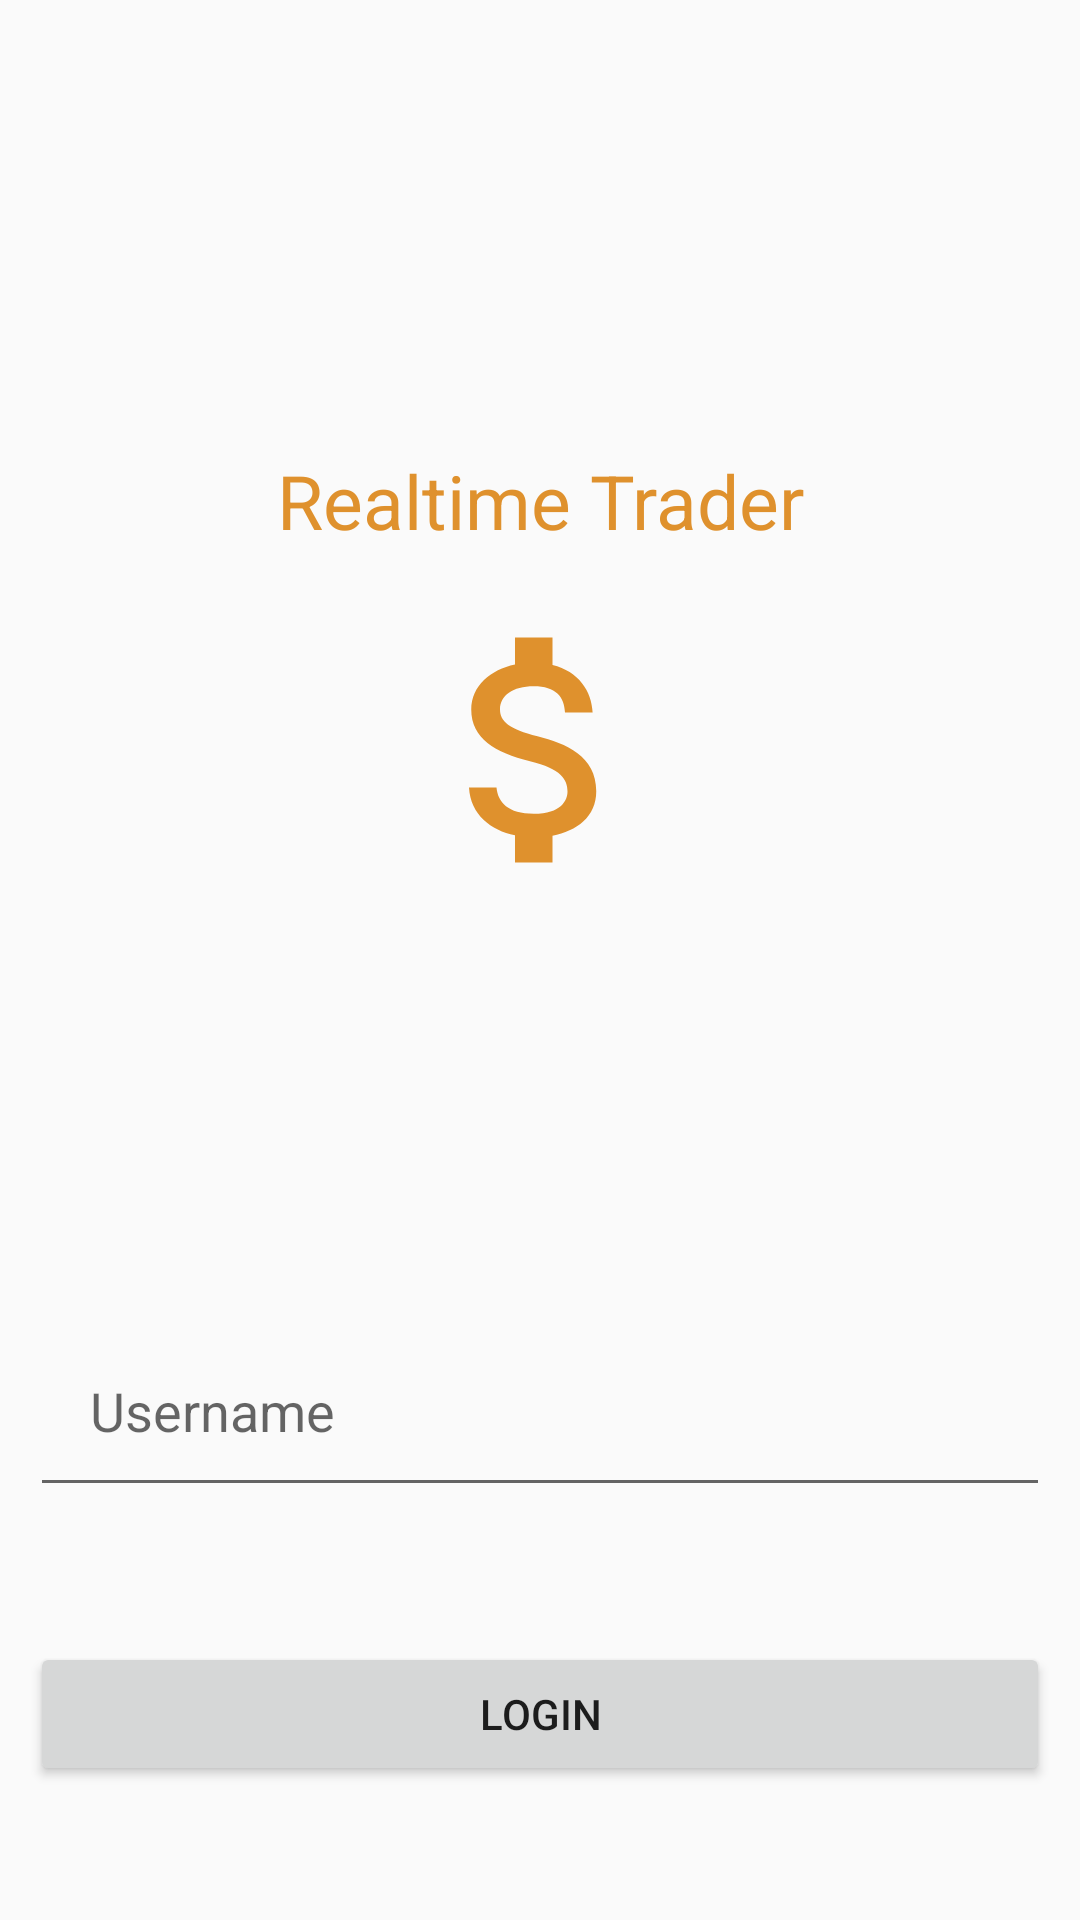

Named icons in this screenshot (1080 × 1920) and their bounding boxes, {"left": x1, "top": y1, "right": x2, "bottom": y2}:
money: {"left": 469, "top": 637, "right": 597, "bottom": 863}
